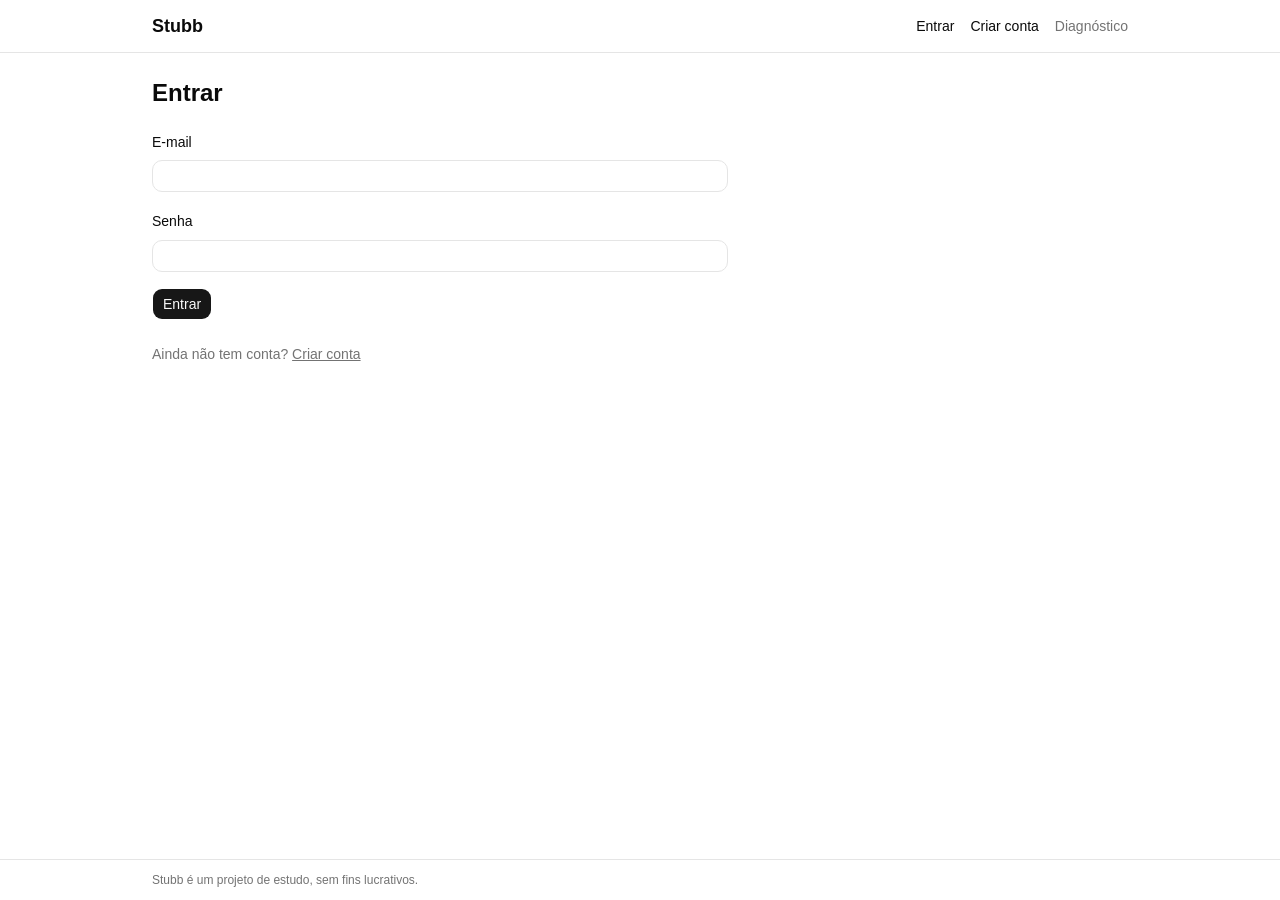
Test: LoginPage › 401 mostra E-mail ou senha inválidos, sem navegar
Type "ana@exemplo.com" into the field labelled "E-mail" at x=440, y=176, box [152,160,728,192]
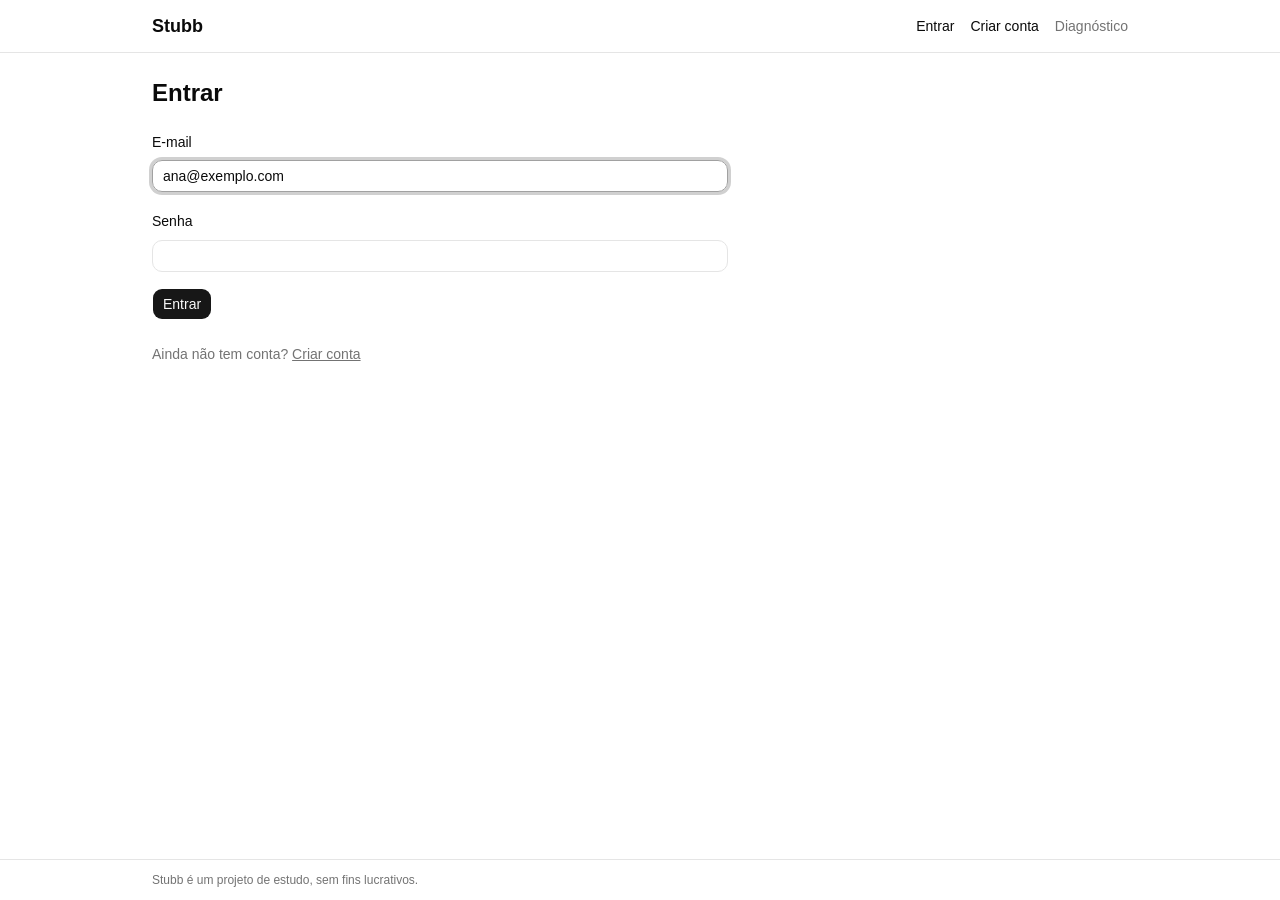
Type "errada" into the password field labelled "Senha" at x=440, y=256, box [152,240,728,272]
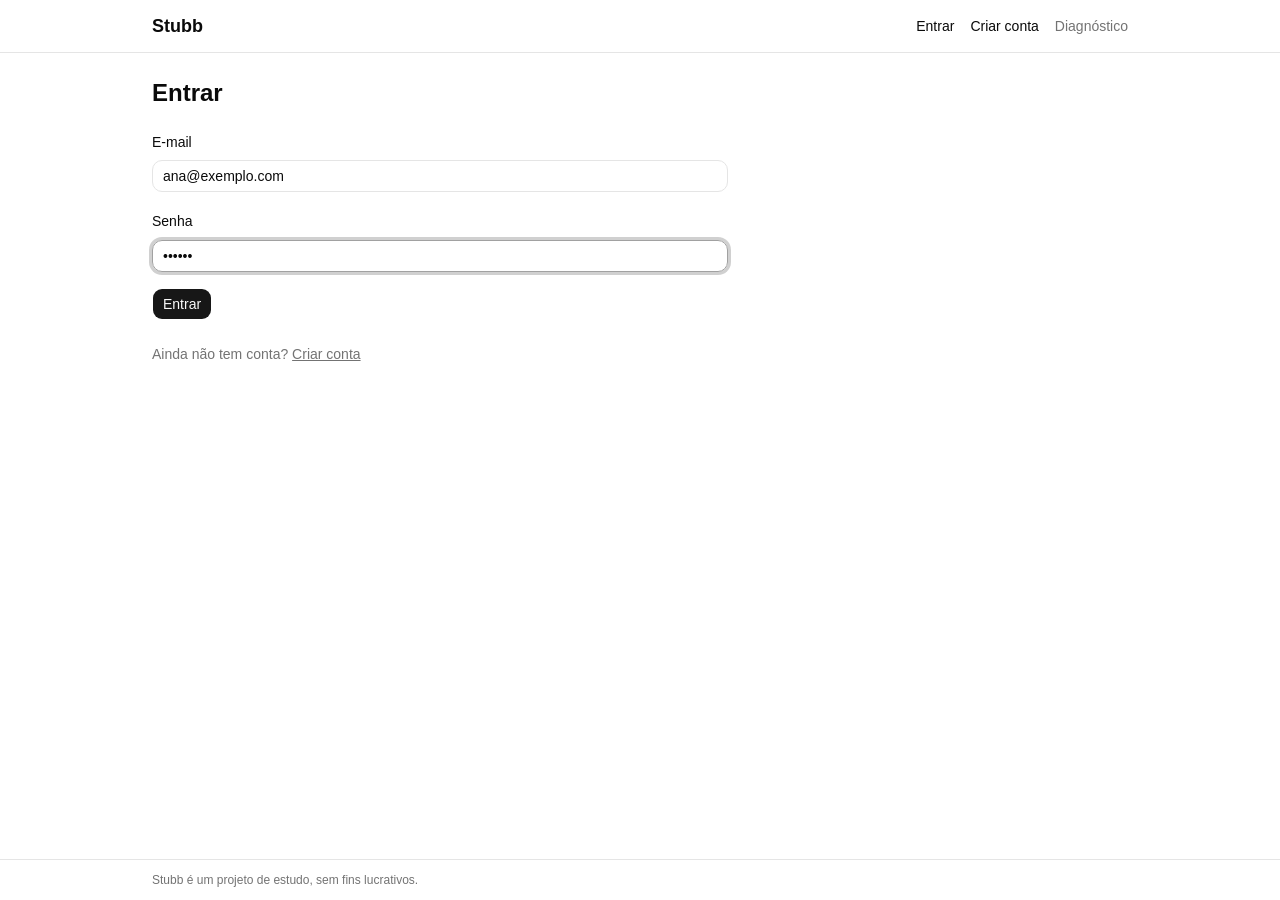
Click the button "Entrar" at x=182, y=304, box [152,288,212,320]
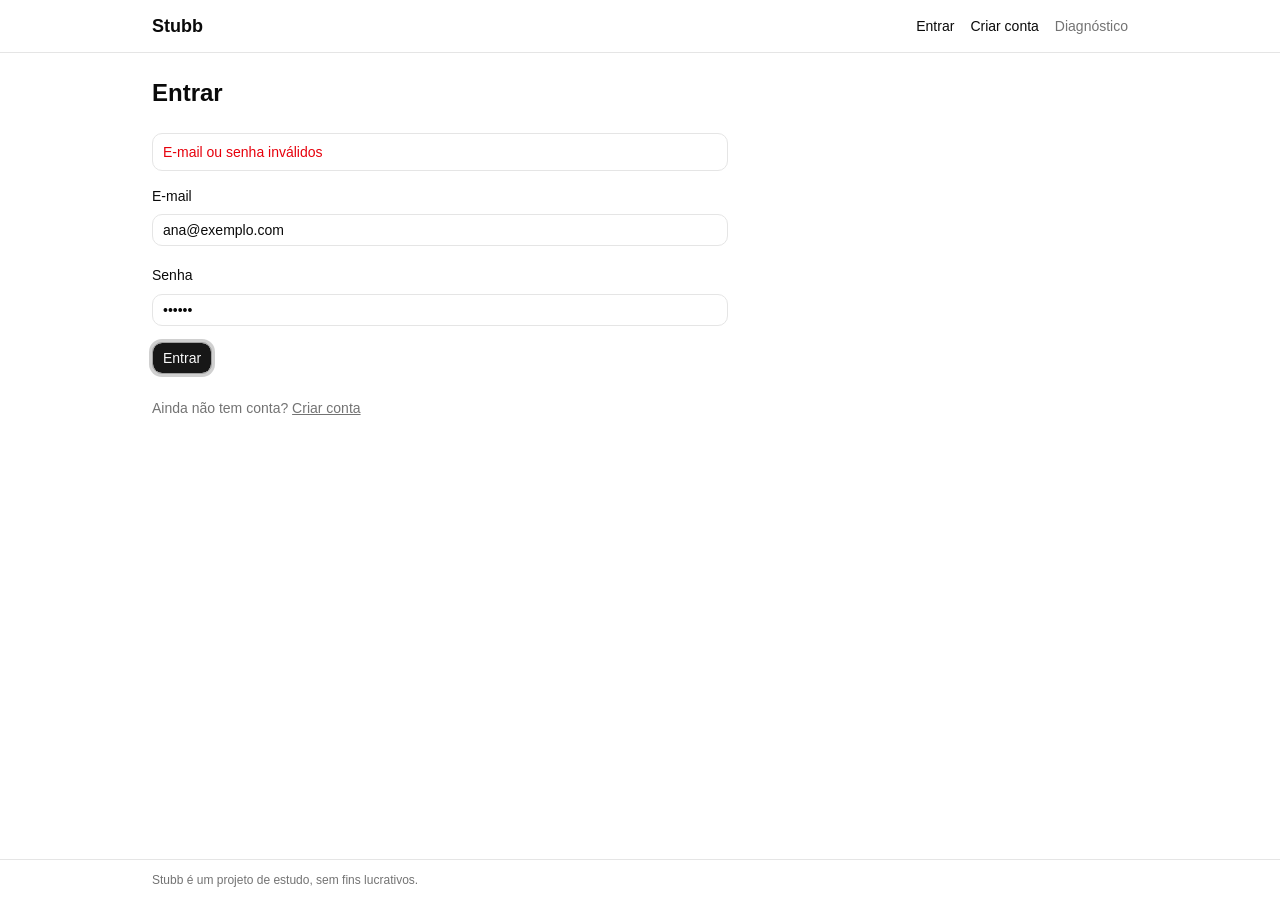
expect the text "E-mail ou senha inválidos" is shown: met, box [152,133,728,171]
